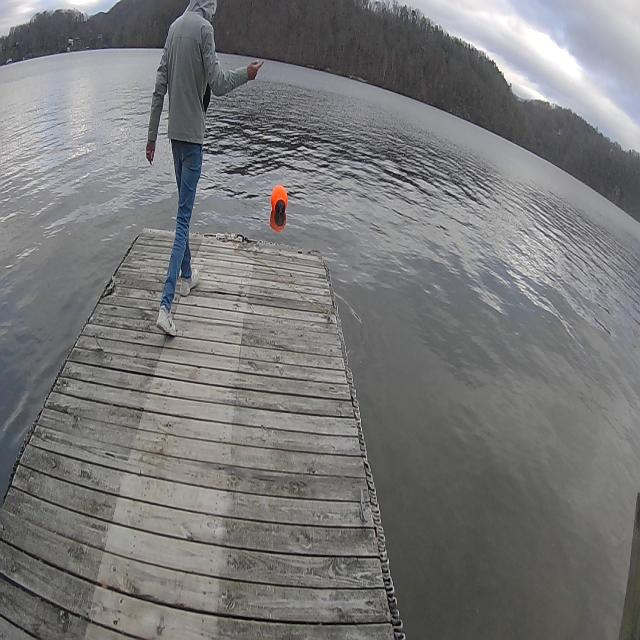Buoy: (269, 183, 290, 218)
